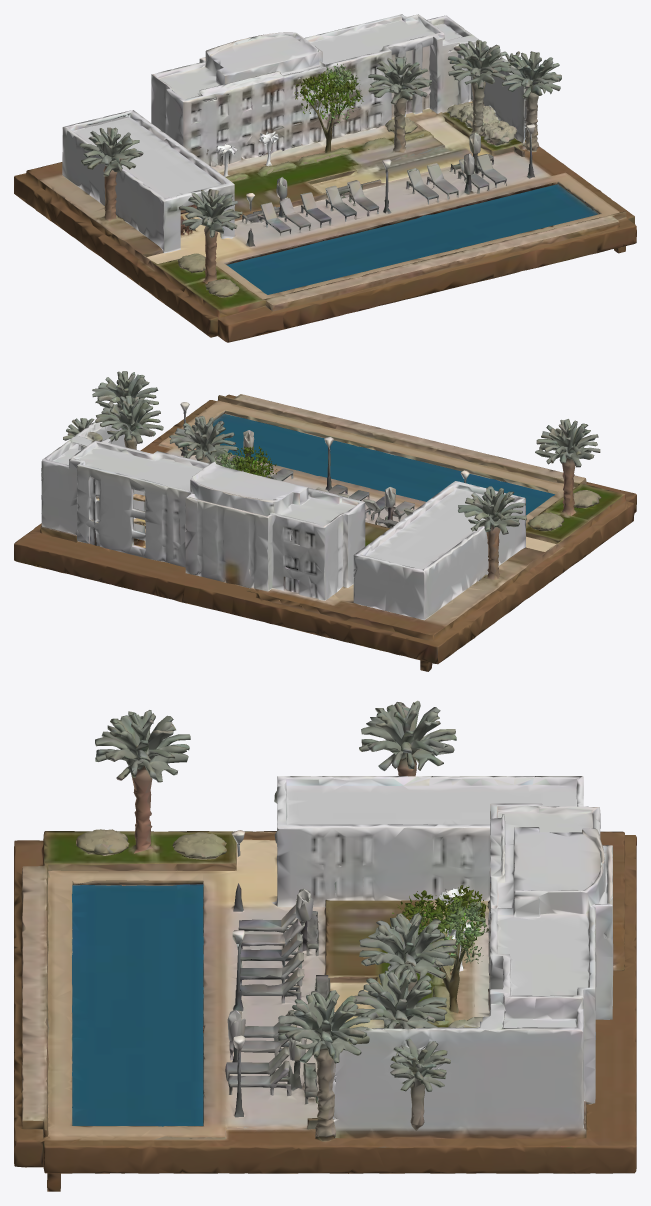
Rendered from movenpick-airport-hotel-2.glb.
The picture shows the model from 3 angles, top to bottom: view 1: azimuth 30°, elevation 25°; view 2: azimuth 150°, elevation 25°; view 3: azimuth 270°, elevation 25°; orthographic projection. The views are drawn at different scales.
Size of the model in its own units: 0.9982 by 0.2755 by 0.7969.
Materials: 1 (1 with a texture image).
